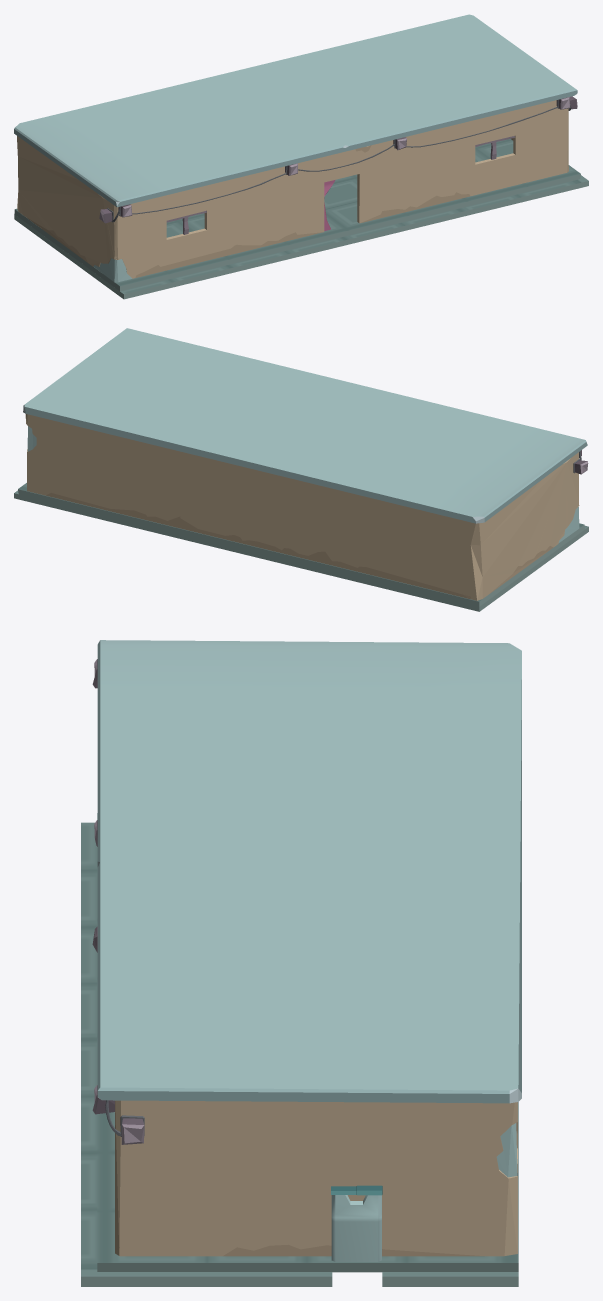
File: school.fbx
3 views of the same model, one above another, from view 1: azimuth 30°, elevation 25°; view 2: azimuth 150°, elevation 25°; view 3: azimuth 270°, elevation 25° (orthographic). The views are drawn at different scales.
Visible parts, largest first — view 1: School; view 2: School; view 3: School.
Boxes of the visible parts, box(x1,y1,x2,y2) form: School: box(14, 14, 588, 299); School: box(14, 328, 588, 611); School: box(81, 640, 521, 1286).
Size of the model in its own units: 0.2186 by 0.042 by 0.0879.
Materials: 1 (1 with a texture image).
